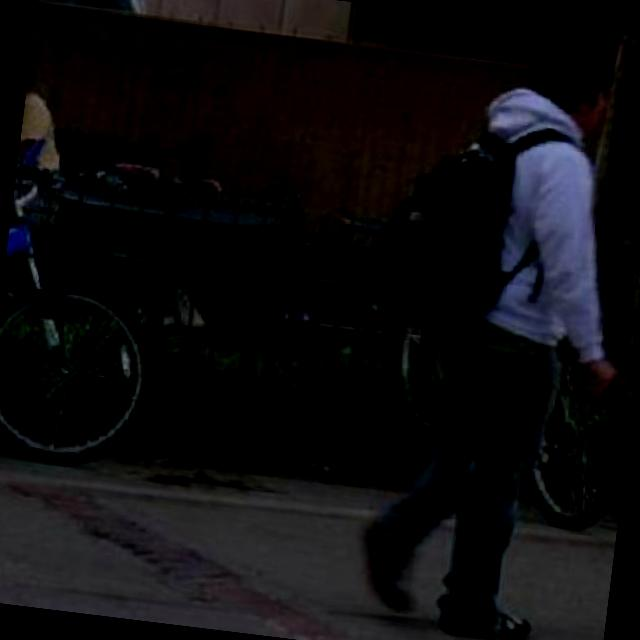Person: (341, 25, 640, 640)
